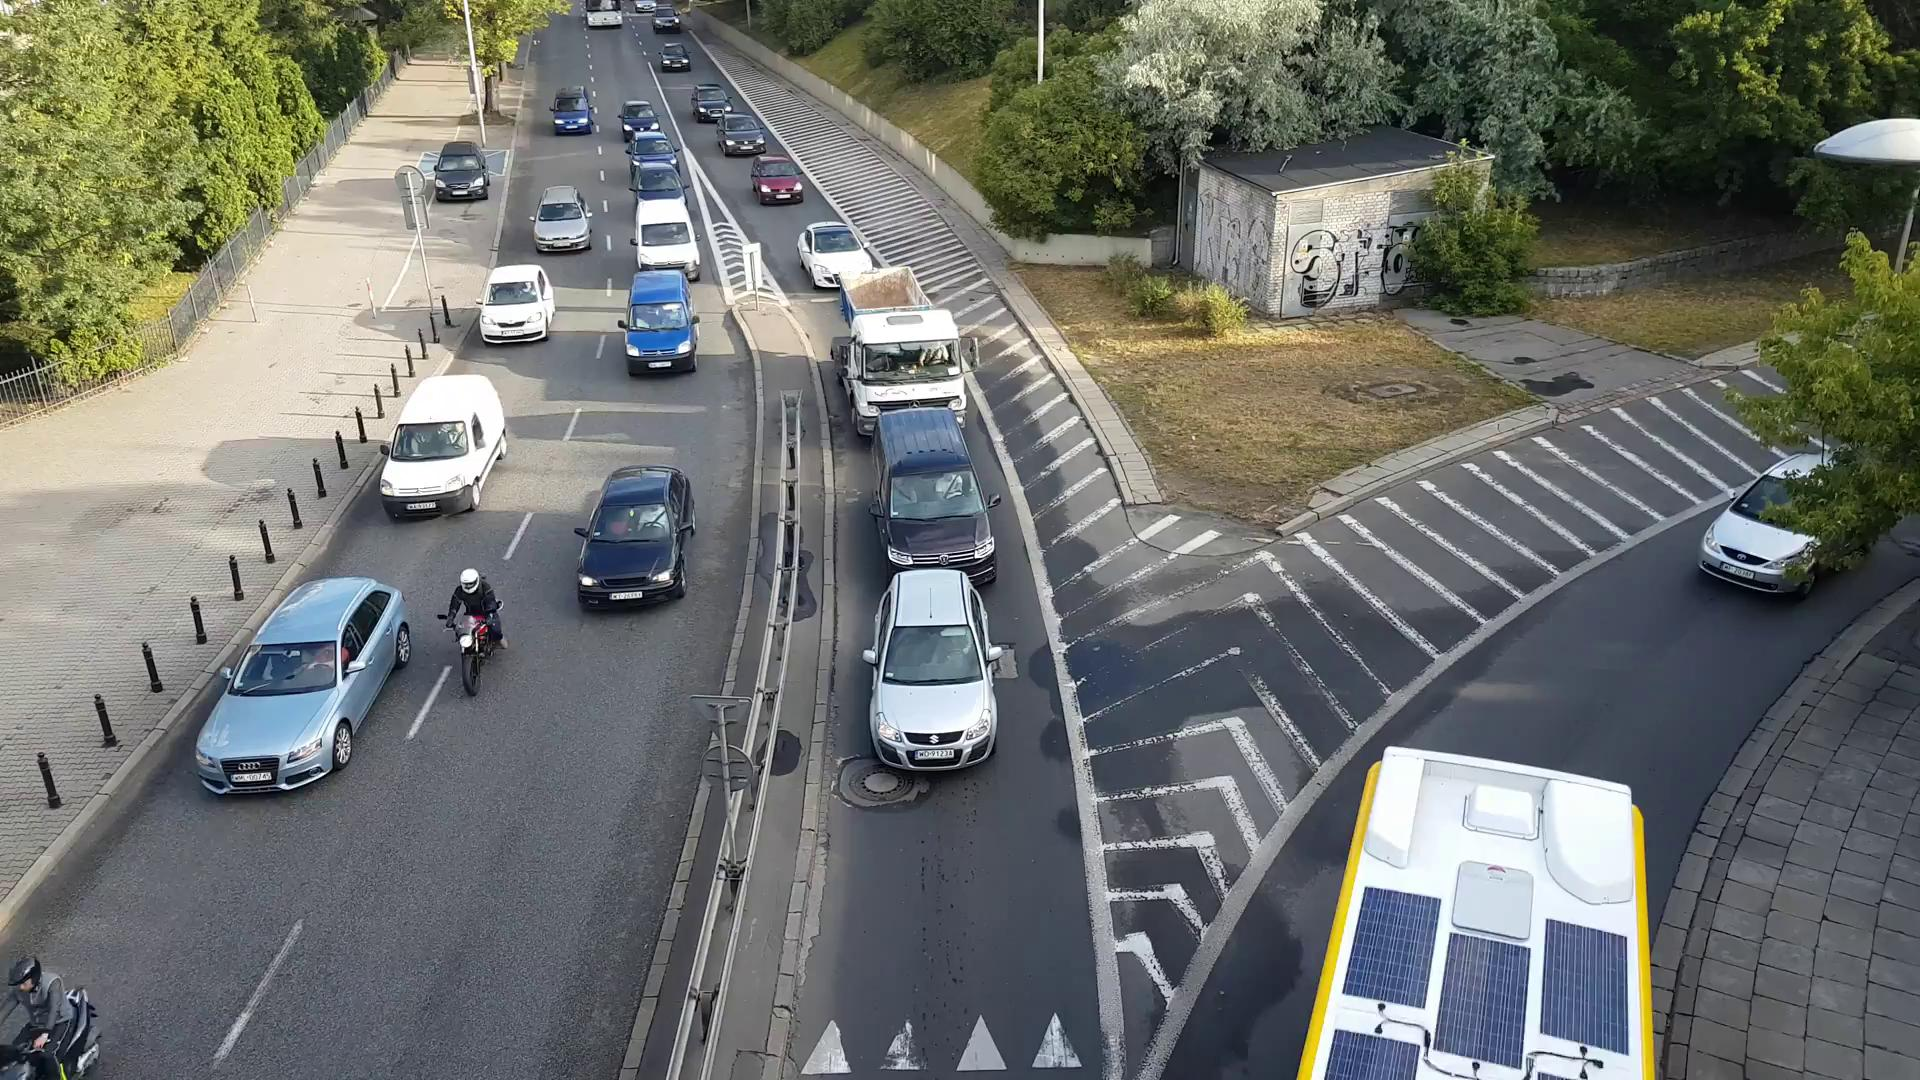bike: (5, 940, 96, 1075), (439, 560, 513, 702)
bus: (1282, 752, 1677, 1079)
car: (194, 570, 418, 802), (862, 570, 1005, 775), (862, 414, 1005, 589), (1691, 423, 1829, 603), (572, 460, 705, 615), (377, 369, 510, 520), (624, 260, 702, 368), (481, 264, 555, 344), (791, 218, 876, 281), (527, 182, 596, 253), (427, 135, 491, 211), (632, 198, 694, 269), (746, 153, 807, 204)
truck: (824, 264, 981, 434)
